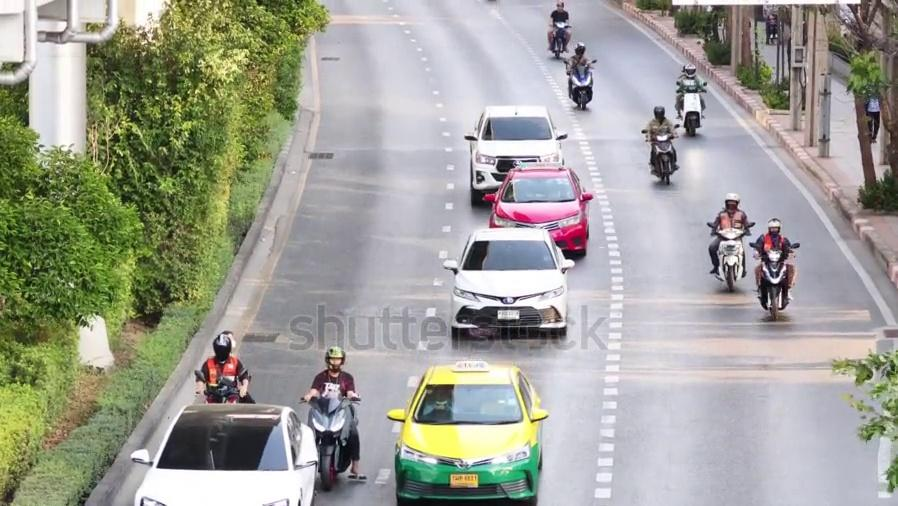person: (864, 93, 881, 143)
rider: (301, 345, 366, 479), (193, 330, 254, 403), (749, 217, 797, 302), (707, 192, 751, 276), (641, 105, 679, 173), (675, 63, 707, 119), (563, 42, 592, 99), (547, 1, 570, 52)
with_helmate: (323, 348, 347, 368), (211, 334, 233, 355), (765, 219, 782, 234), (724, 196, 742, 210), (683, 64, 699, 77), (652, 104, 666, 118), (573, 44, 590, 52)
